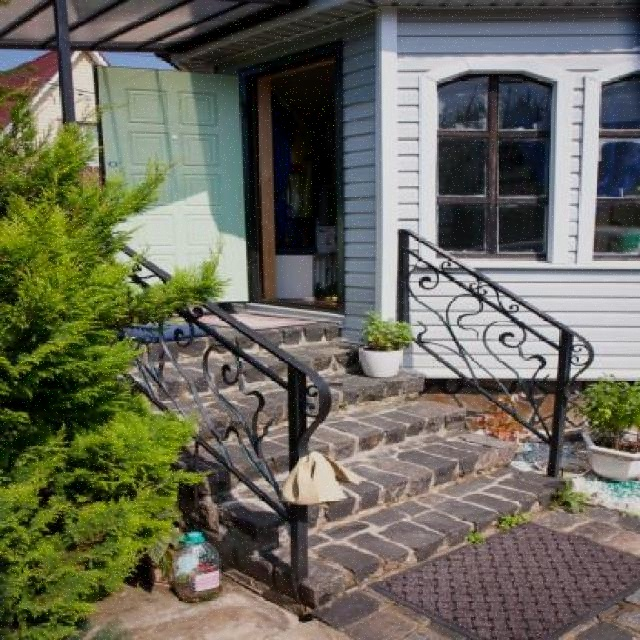stair: (100, 325, 574, 609)
